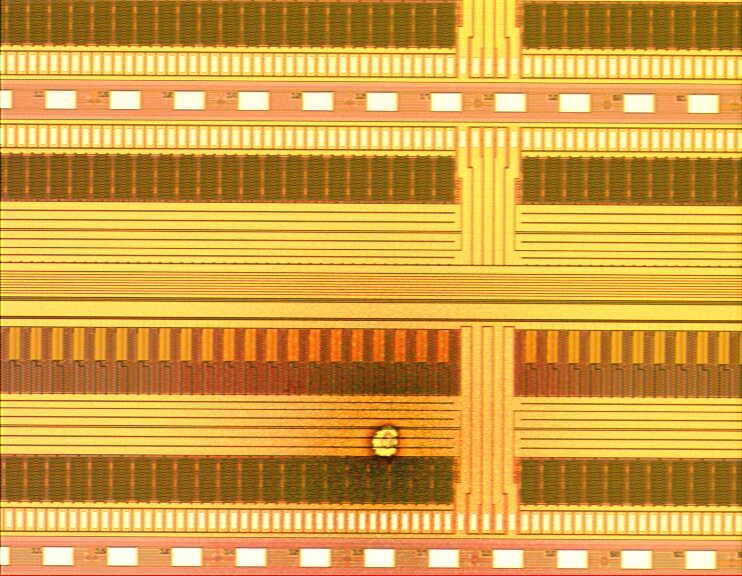BLOCK ETCH: (304, 367, 448, 511)
